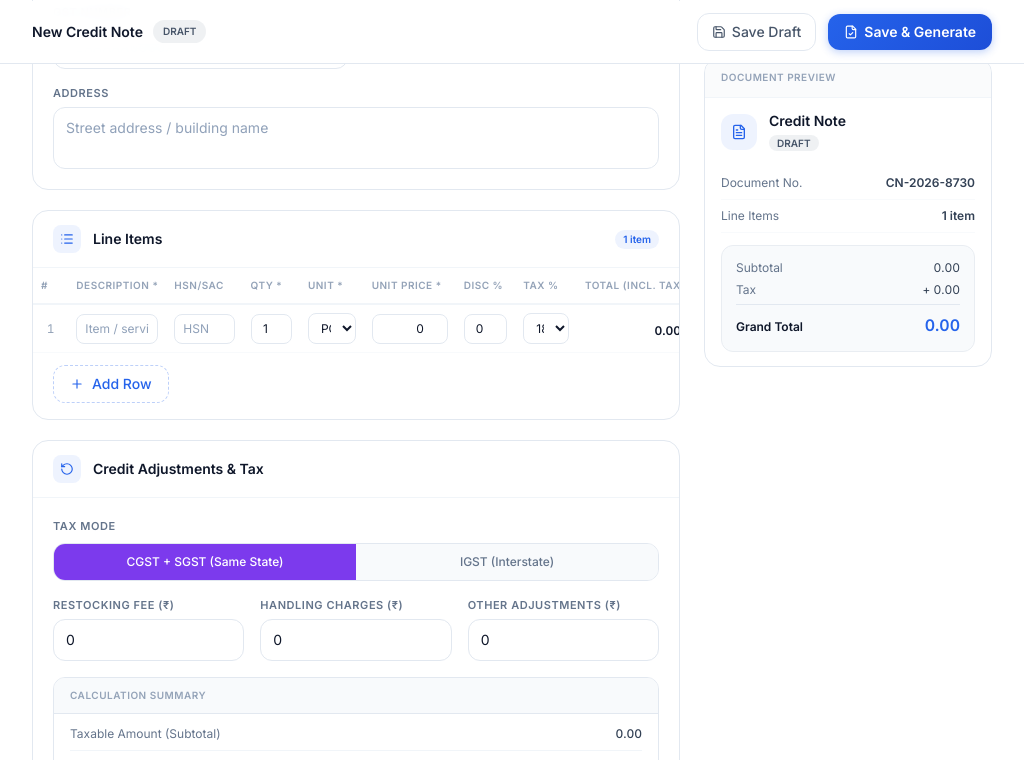
Test case: CreditNotePage › adds a new line item row
(page scrolled)
Check: the text "1 item" below "Phone" is shown, box [615,230,659,248]
Step 1. Click the button "Add Row" → (111, 384), box [53,365,169,403]
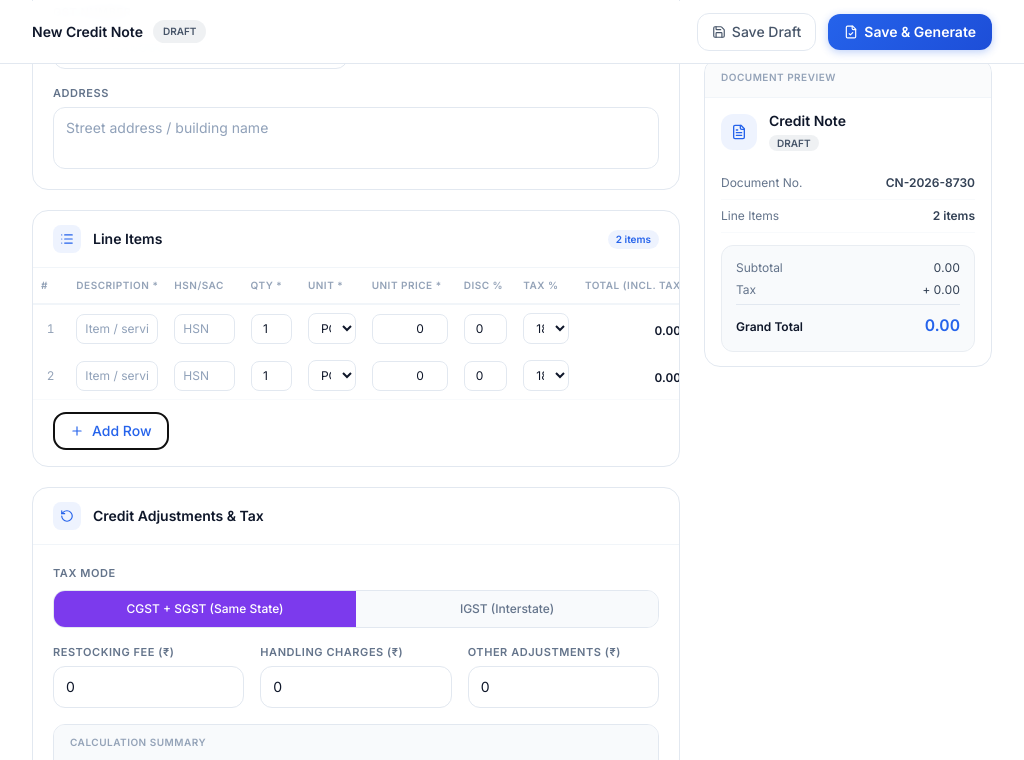
Check: the text "2 items" below "Phone" is shown, box [608,230,659,248]
Check: the text "1 item" is gone
